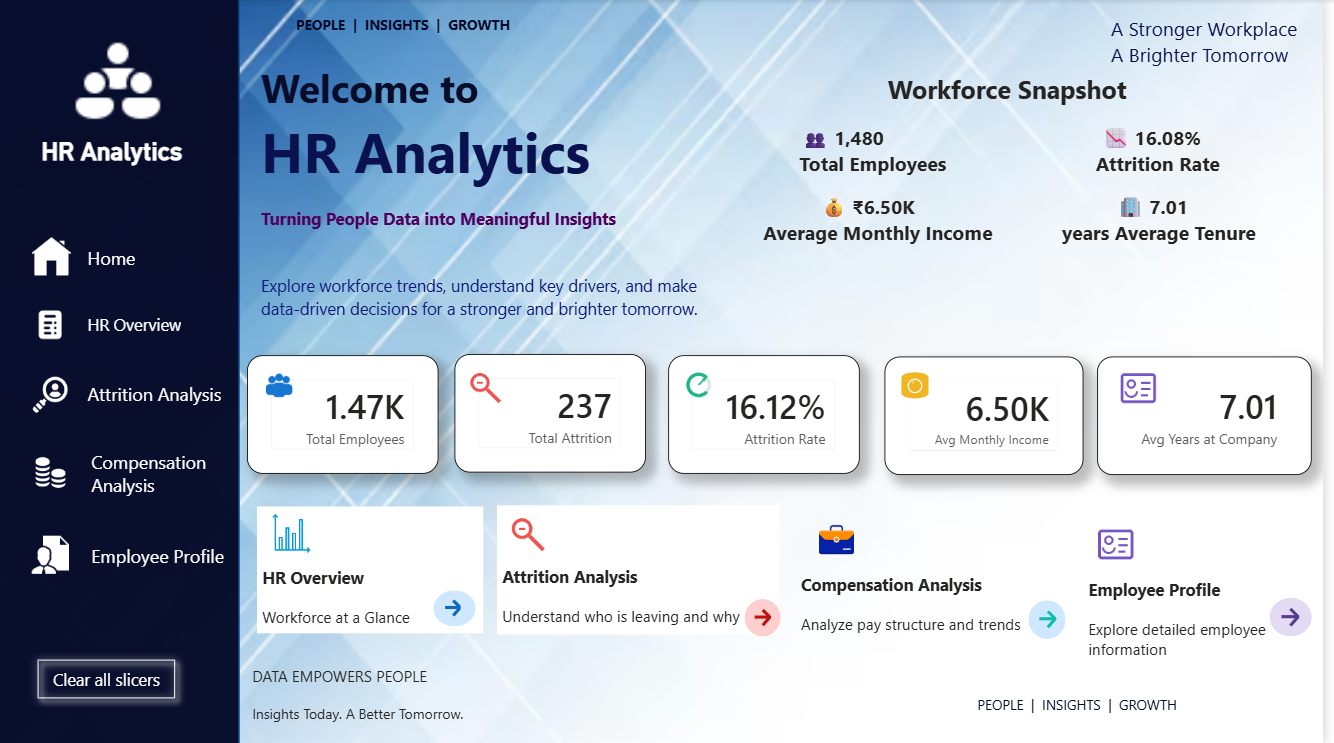

Layout of this report page (visuals, bound fields, positions):
{"tool":"powerbi","page":{"name":"Home ","canvas":[1280,720],"ordinal":0},"visuals":[{"type":"shape","box":[0,0,234,720.2],"z":0},{"type":"cardVisual","fields":{"Data":["measure.Total Attrition"]},"box":[441.6,342.6,184.6,114.6],"z":0},{"type":"cardVisual","fields":{"Data":["measure.Total Employees"]},"box":[241.3,343.8,184.6,114.6],"z":0,"group":"g1"},{"type":"textbox","box":[482.6,488.1,272.7,124.8],"z":0,"group":"g3"},{"type":"textbox","box":[250.5,489.7,218.4,122.7],"z":0,"group":"g2"},{"type":"textbox","box":[771.4,495.8,232.9,132.7],"z":0,"group":"g4"},{"type":"textbox","box":[1048.4,500.1,231.6,147.7],"z":0,"group":"g5"},{"type":"textbox","box":[21.7,127.9,178.6,48.3],"z":1},{"type":"actionButton","box":[83.2,229.2,105,39.8],"z":2},{"type":"actionButton","box":[83.2,294.4,127.9,39.8],"z":3},{"type":"actionButton","box":[83.2,360.7,152,39.8],"z":4},{"type":"actionButton","box":[86.9,424.7,142.4,66.4],"z":5},{"type":"actionButton","box":[86.9,507.9,141.2,57.9],"z":6},{"type":"image","box":[63.9,30.2,106.2,97.7],"z":7},{"type":"image","box":[31.4,229.2,42.2,39.8],"z":8},{"type":"image","box":[30.2,361.9,42.2,39.8],"z":9},{"type":"image","box":[30.2,294.4,42.2,39.8],"z":10},{"type":"image","box":[30.2,436.7,42.2,39.8],"z":11},{"type":"image","box":[30.2,516.4,42.2,39.8],"z":12},{"type":"actionButton","box":[30.2,628.6,150.8,55.5],"z":13},{"type":"textbox","box":[250,11.4,284.3,55.7],"z":14},{"type":"textbox","box":[249.7,55.5,352.3,139.9],"z":15},{"type":"textbox","box":[249.7,195.4,425.9,54.3],"z":16},{"type":"textbox","box":[249.7,260.6,468.1,73.6],"z":17},{"type":"group","id":"g1","title":"Group 1","box":[241.3,343.8,1027.9,115.8],"z":18},{"type":"group","id":"g2","title":"Group 2","box":[241.3,489.7,293.2,225.7],"z":19},{"type":"group","id":"g3","title":"Group 3","box":[482.6,488.1,272.7,124.8],"z":20},{"type":"group","id":"g4","title":"Group 4","box":[771.4,495.8,232.9,132.7],"z":21},{"type":"group","id":"g5","title":"Group 5","box":[1048.4,500.1,231.6,147.7],"z":22},{"type":"textbox","box":[941.4,667.1,338.6,32.9],"z":23},{"type":"actionButton","box":[421,570.6,41,35],"z":24},{"type":"actionButton","box":[1228.2,577.9,41,37.4],"z":25},{"type":"actionButton","box":[995.3,580.3,36.2,37.4],"z":26},{"type":"actionButton","box":[721.5,579.1,35,36.2],"z":27},{"type":"image","box":[1079.8,349.9,43.4,50.7],"z":28},{"type":"image","box":[448.8,354.7,44.6,41],"z":29},{"type":"image","box":[652.7,355.9,48.3,32.6],"z":30},{"type":"image","box":[861.4,354.7,48.3,42.2],"z":31},{"type":"image","box":[250.9,359.5,42.2,31.4],"z":32},{"type":"textbox","box":[1070.1,10.9,209.9,68.8],"z":33},{"type":"textbox","box":[700.9,66.4,547.7,231.6],"z":34},{"type":"image","box":[489.8,486.2,44.6,60.3],"z":35},{"type":"image","box":[1058,500.7,43.4,50.7],"z":36},{"type":"image","box":[787.8,500.7,44.6,42.2],"z":37},{"type":"image","box":[261.8,494.6,44.6,42.2],"z":38},{"type":"cardVisual","fields":{"Data":["measure.Avg Years at Company"]},"box":[1061.7,345,207.5,114.6],"z":1000,"group":"g1"},{"type":"cardVisual","fields":{"Data":["measure.Attrition Rate"]},"box":[647.9,343.8,184.6,114.6],"z":2000,"group":"g1"},{"type":"textbox","box":[241.3,638.3,293.2,77.1],"z":2000,"group":"g2"},{"type":"cardVisual","fields":{"Data":["measure.Avg Monthly Income"]},"box":[856.6,345,191.8,114.6],"z":3000,"group":"g1"}]}

Visuals, with their boxes in screenshot pixels (x1, y1, x2, y2), scaled from the page's 1280x720 canvas onto the 1334x743 screenshot:
shape: <region>0, 0, 244, 742</region>
cardVisual - measure.Total Attrition: <region>460, 354, 653, 472</region>
cardVisual - measure.Total Employees: <region>251, 355, 444, 473</region>
textbox: <region>503, 504, 787, 632</region>
textbox: <region>261, 505, 489, 632</region>
textbox: <region>804, 512, 1047, 649</region>
textbox: <region>1093, 516, 1333, 668</region>
textbox: <region>23, 132, 209, 182</region>
actionButton: <region>87, 237, 196, 278</region>
actionButton: <region>87, 304, 220, 345</region>
actionButton: <region>87, 372, 245, 413</region>
actionButton: <region>91, 438, 239, 507</region>
actionButton: <region>91, 524, 238, 584</region>
image: <region>67, 31, 177, 132</region>
image: <region>33, 237, 77, 278</region>
image: <region>31, 373, 75, 415</region>
image: <region>31, 304, 75, 345</region>
image: <region>31, 451, 75, 492</region>
image: <region>31, 533, 75, 574</region>
actionButton: <region>31, 649, 189, 706</region>
textbox: <region>261, 12, 557, 69</region>
textbox: <region>260, 57, 627, 202</region>
textbox: <region>260, 202, 704, 258</region>
textbox: <region>260, 269, 748, 345</region>
"Group 1" group: <region>251, 355, 1323, 474</region>
"Group 2" group: <region>251, 505, 557, 738</region>
"Group 3" group: <region>503, 504, 787, 632</region>
"Group 4" group: <region>804, 512, 1047, 649</region>
"Group 5" group: <region>1093, 516, 1333, 668</region>
textbox: <region>981, 688, 1333, 722</region>
actionButton: <region>439, 589, 481, 625</region>
actionButton: <region>1280, 596, 1323, 635</region>
actionButton: <region>1037, 599, 1075, 637</region>
actionButton: <region>752, 598, 788, 635</region>
image: <region>1125, 361, 1171, 413</region>
image: <region>468, 366, 514, 408</region>
image: <region>680, 367, 731, 401</region>
image: <region>898, 366, 948, 410</region>
image: <region>261, 371, 305, 403</region>
textbox: <region>1115, 11, 1333, 82</region>
textbox: <region>730, 69, 1301, 308</region>
image: <region>510, 502, 557, 564</region>
image: <region>1103, 517, 1148, 569</region>
image: <region>821, 517, 868, 560</region>
image: <region>273, 510, 319, 554</region>
cardVisual - measure.Avg Years at Company: <region>1106, 356, 1323, 474</region>
cardVisual - measure.Attrition Rate: <region>675, 355, 868, 473</region>
textbox: <region>251, 659, 557, 738</region>
cardVisual - measure.Avg Monthly Income: <region>893, 356, 1093, 474</region>
